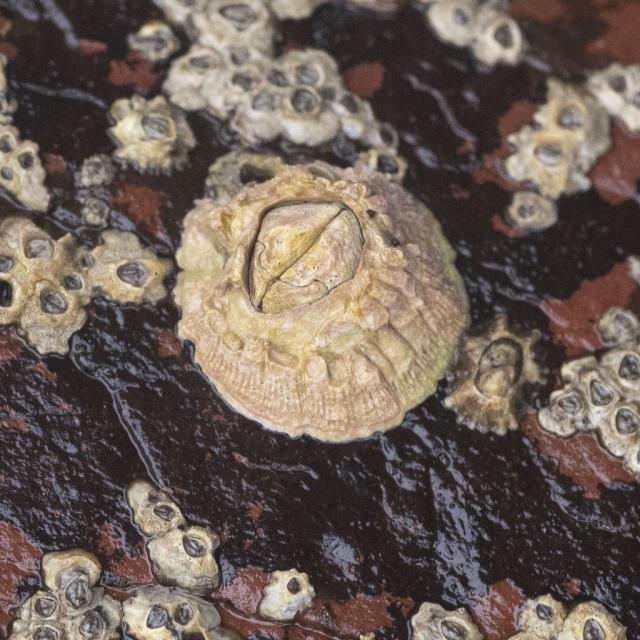barnacles: (185, 160, 470, 444), (460, 315, 545, 435), (22, 282, 93, 359), (98, 244, 173, 313), (155, 524, 224, 588), (511, 138, 590, 192), (112, 105, 183, 162), (255, 564, 315, 620), (478, 12, 530, 67), (13, 222, 60, 273), (503, 192, 557, 235), (428, 0, 475, 46), (523, 588, 561, 640), (570, 601, 620, 640), (138, 503, 185, 528)
